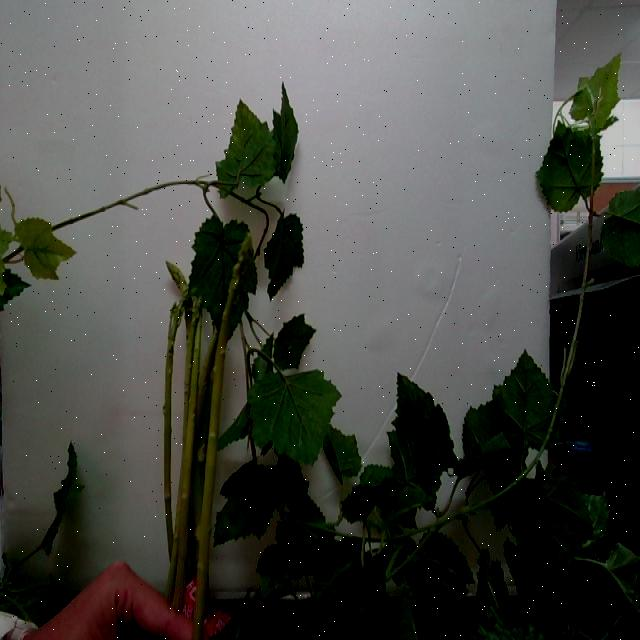aspargus: (193, 231, 249, 640)
